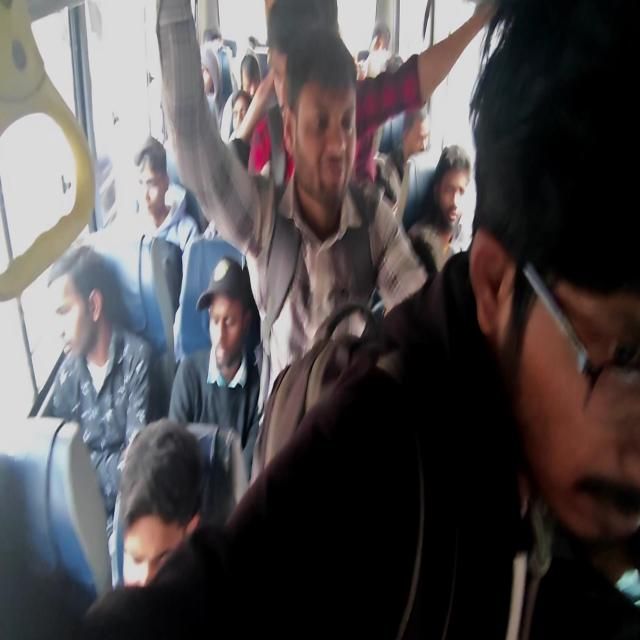person: (485, 63, 640, 640), (128, 430, 202, 567), (268, 24, 334, 147), (38, 246, 107, 352), (204, 266, 256, 392), (302, 56, 346, 176), (431, 156, 476, 228), (127, 146, 172, 211), (237, 58, 264, 109), (194, 59, 221, 105), (229, 98, 254, 147), (406, 112, 431, 160), (202, 27, 227, 58), (373, 27, 390, 69), (242, 29, 263, 53)
